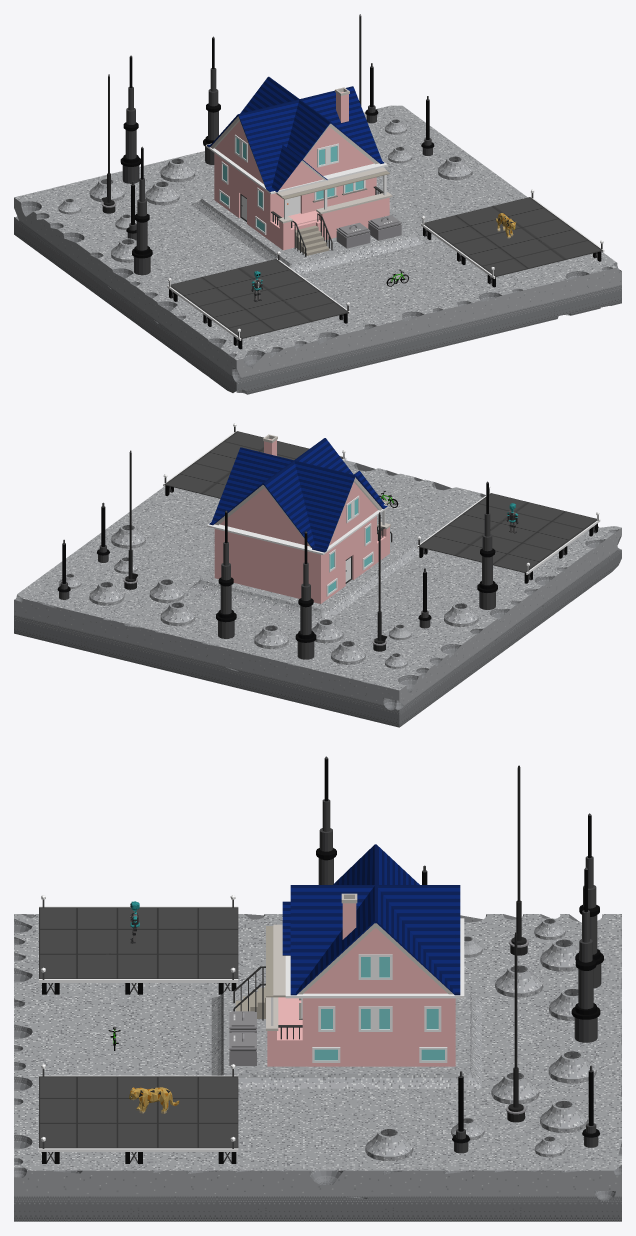
The picture shows the model from 3 angles, top to bottom: view 1: azimuth 30°, elevation 25°; view 2: azimuth 150°, elevation 25°; view 3: azimuth 270°, elevation 25°; orthographic projection. The views are drawn at different scales.
Parts seen in each view (by area): view 1: Cube.027, Cube.313, Cube.025, Cube.026, Cube.028, Cylinder.020, Cylinder.021, Cylinder.017, Cube.029, Cube.030, Cylinder.027, Cylinder.033 (+2 smaller); view 2: Cube.027, Cube.313, Cube.025, Cube.028, Cube.026, Cylinder.020, Cylinder.021, Cylinder.017, Cylinder.031, Cylinder.028, Cylinder.029, Cylinder.030 (+6 smaller); view 3: Cube.027, Cube.313, Cube.025, Cube.026, Cube.028, Cylinder.017, Cylinder.020, Cylinder.021, Cylinder.033, Cylinder.031, Cylinder.029, Cylinder.026 (+9 smaller).
Boxes of the visible parts, x1=… form: Cube.027: x1=14, y1=105, x2=621, y2=394; Cube.313: x1=205, y1=76, x2=392, y2=256; Cube.025: x1=167, y1=251, x2=350, y2=349; Cube.026: x1=421, y1=189, x2=604, y2=287; Cube.028: x1=191, y1=195, x2=424, y2=274; Cylinder.020: x1=120, y1=55, x2=140, y2=183; Cylinder.021: x1=132, y1=146, x2=152, y2=275; Cylinder.017: x1=203, y1=36, x2=220, y2=164; Cube.029: x1=336, y1=222, x2=370, y2=248; Cube.030: x1=368, y1=215, x2=401, y2=240; Cylinder.027: x1=160, y1=158, x2=195, y2=182; Cylinder.033: x1=438, y1=156, x2=472, y2=180; Cube.027: x1=14, y1=460, x2=621, y2=727; Cube.313: x1=206, y1=434, x2=392, y2=603; Cube.025: x1=417, y1=485, x2=600, y2=583; Cube.028: x1=190, y1=538, x2=419, y2=620; Cube.026: x1=163, y1=423, x2=346, y2=498; Cylinder.020: x1=295, y1=531, x2=316, y2=659; Cylinder.021: x1=477, y1=481, x2=497, y2=609; Cylinder.017: x1=216, y1=510, x2=236, y2=638; Cylinder.031: x1=89, y1=581, x2=124, y2=605; Cylinder.028: x1=331, y1=640, x2=365, y2=664; Cylinder.029: x1=160, y1=601, x2=195, y2=626; Cylinder.030: x1=149, y1=578, x2=184, y2=603; Cube.027: x1=14, y1=914, x2=621, y2=1221; Cube.313: x1=233, y1=844, x2=464, y2=1066; Cube.025: x1=39, y1=895, x2=238, y2=994; Cube.026: x1=39, y1=1064, x2=238, y2=1163; Cube.028: x1=211, y1=991, x2=481, y2=1088; Cylinder.017: x1=571, y1=867, x2=600, y2=1042; Cylinder.020: x1=575, y1=813, x2=603, y2=988; Cylinder.021: x1=316, y1=756, x2=336, y2=884; Cylinder.033: x1=365, y1=1128, x2=413, y2=1160; Cylinder.031: x1=540, y1=1100, x2=587, y2=1132; Cylinder.029: x1=548, y1=1050, x2=596, y2=1083; Cylinder.026: x1=495, y1=964, x2=543, y2=997.
Bounding box in the file's own units: 4000 × 1777 × 4000.
Materials: 40 (4 with a texture image).
